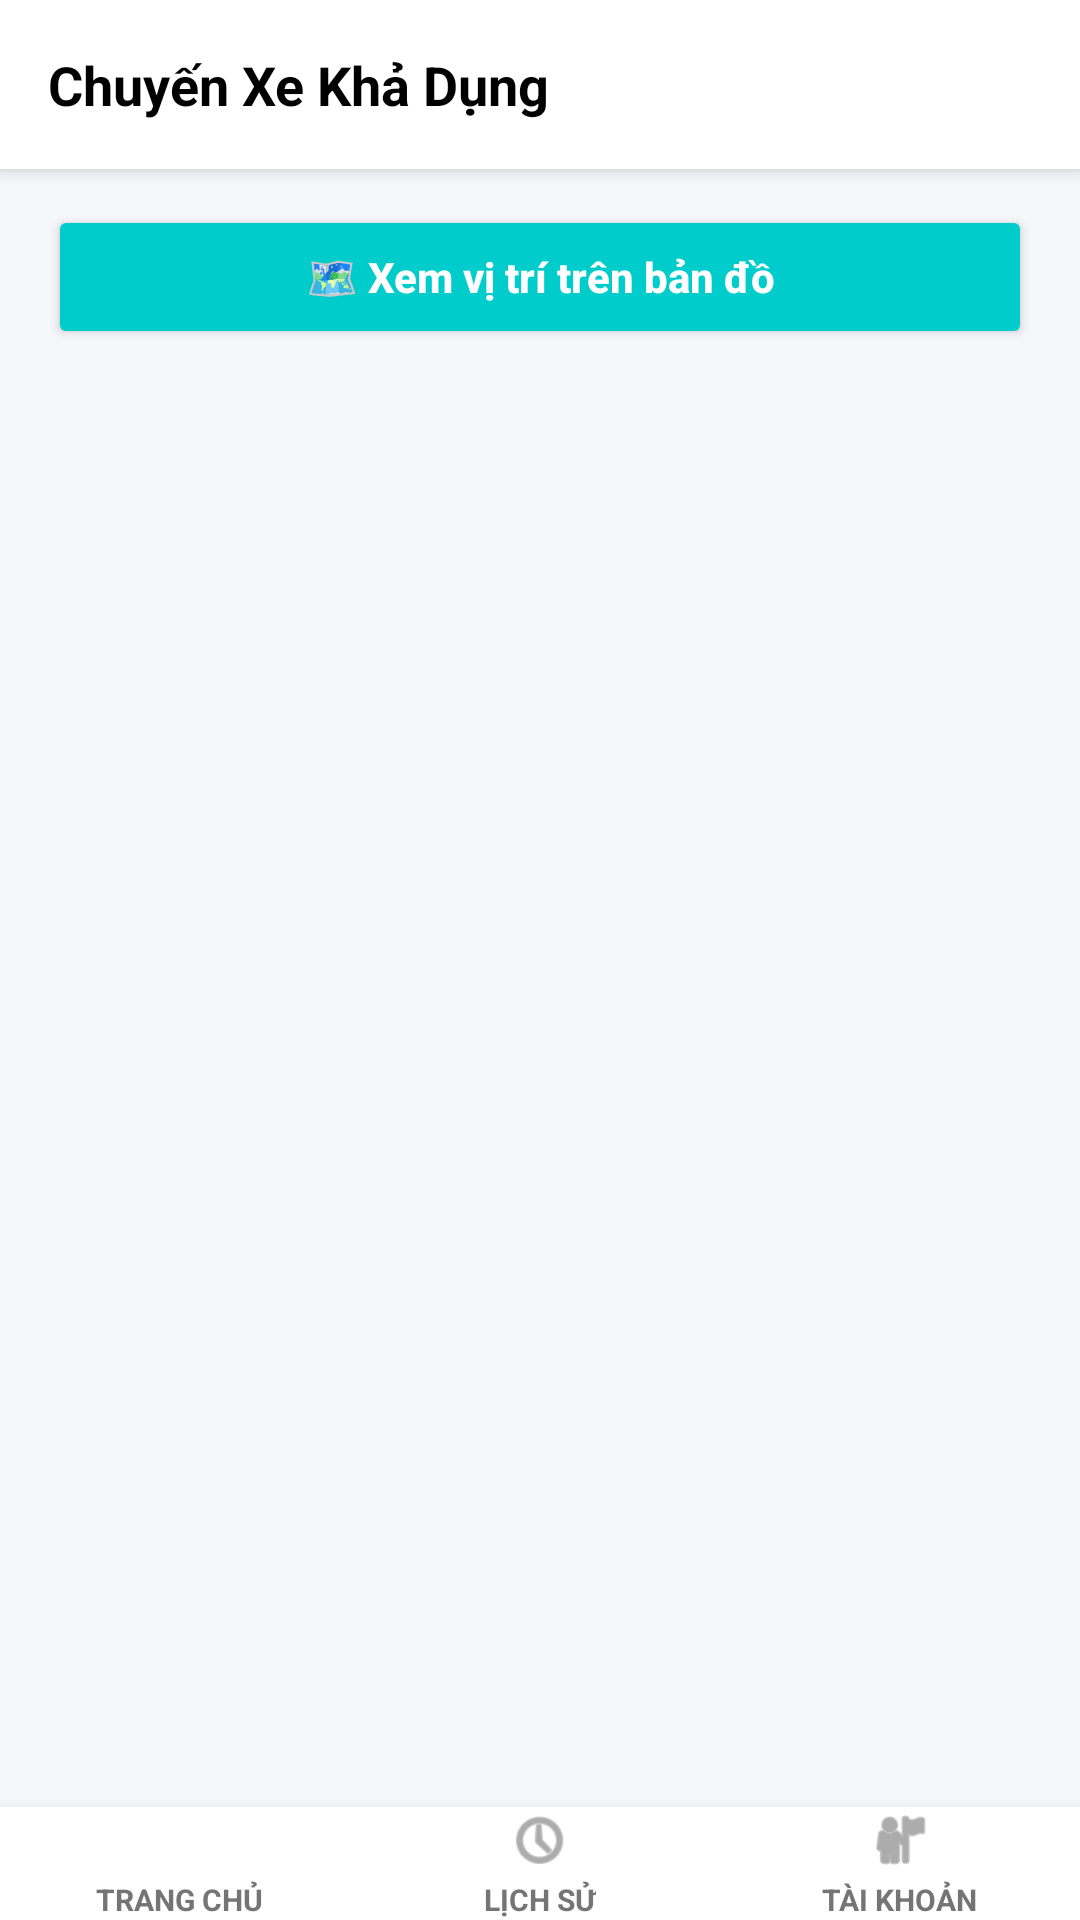

Icons on this 1080 x 1920 Android screen, each with its box as box(x1, y1, x2, y2):
myplaces: box(876, 1816, 925, 1864)
